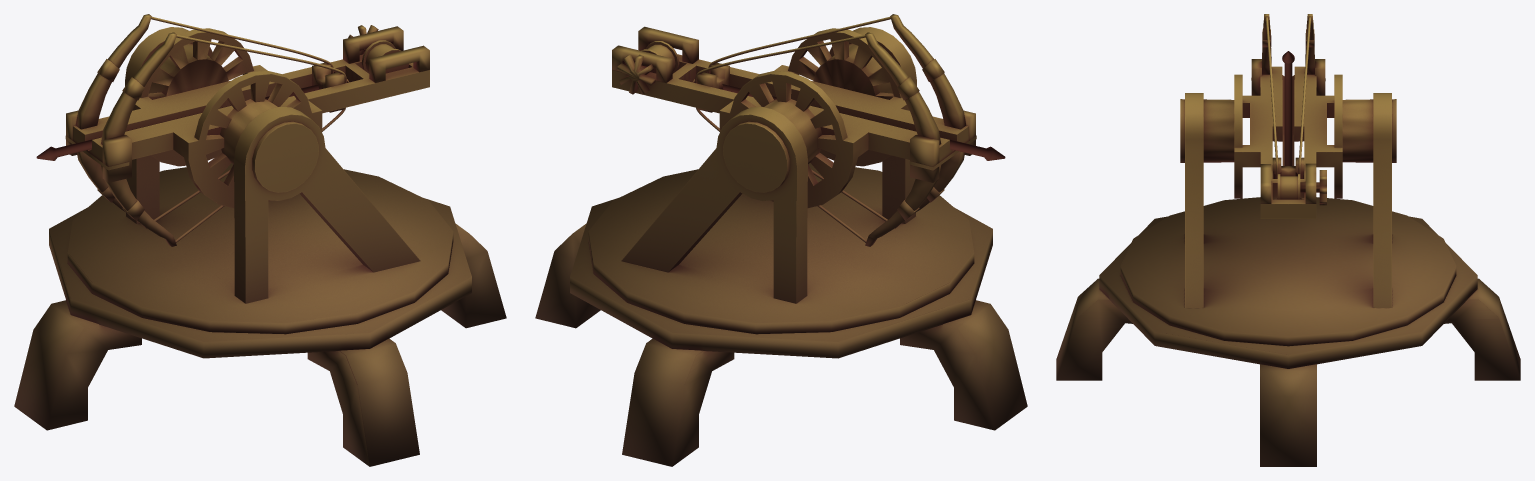
File: Arbalest.fbx
The picture shows the model from 3 angles, left to right: view 1: azimuth 30°, elevation 25°; view 2: azimuth 150°, elevation 25°; view 3: azimuth 270°, elevation 25°; orthographic projection. The views are drawn at different scales.
Visible parts, largest first — view 1: Cylinder.011, Cylinder.002, Cylinder.001; view 2: Cylinder.011, Cylinder.002, Cylinder.001; view 3: Cylinder.011, Cylinder.002, Cylinder.001.
Boxes of the visible parts, box(x1,y1,x2,y2) form: Cylinder.011: box(14, 163, 506, 466); Cylinder.002: box(73, 27, 429, 303); Cylinder.001: box(36, 14, 429, 246); Cylinder.011: box(535, 163, 1027, 466); Cylinder.002: box(612, 27, 968, 303); Cylinder.001: box(612, 14, 1005, 246); Cylinder.011: box(1056, 197, 1520, 466); Cylinder.002: box(1180, 66, 1396, 307); Cylinder.001: box(1251, 14, 1326, 205).
Bounding box in the file's own units: 68.45 × 51.51 × 69.32.
Materials: 3 (3 with a texture image).
